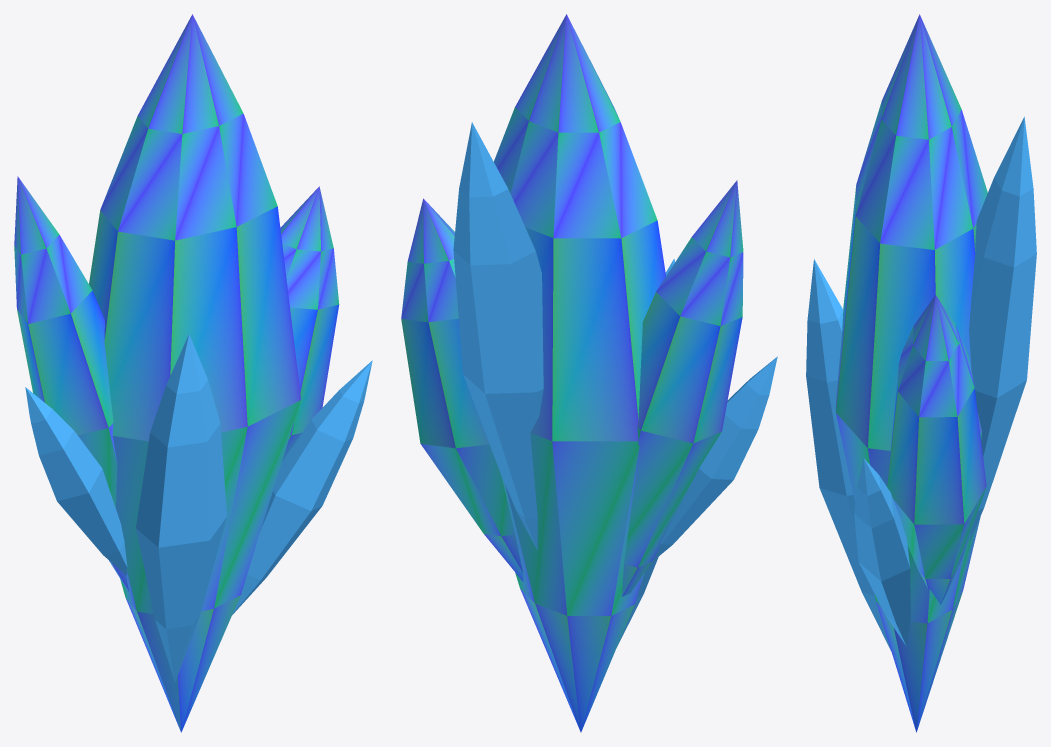
Rendered from heart_crystal.glb.
3 renders of one model, left to right at view 1: azimuth 30°, elevation 25°; view 2: azimuth 150°, elevation 25°; view 3: azimuth 270°, elevation 25°, orthographic.
Parts seen in each view (by area): view 1: HeartCrystal; view 2: HeartCrystal; view 3: HeartCrystal.
Part boxes in pixels (box(x1,y1,x2,y2)): HeartCrystal: box(14, 14, 372, 732); HeartCrystal: box(401, 14, 777, 732); HeartCrystal: box(806, 14, 1036, 732).
Size of the model in its own units: 5 by 10 by 2.88.
